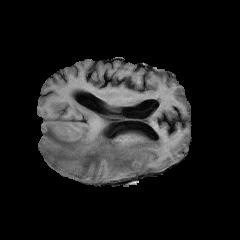glioma: (38, 104, 163, 179)
